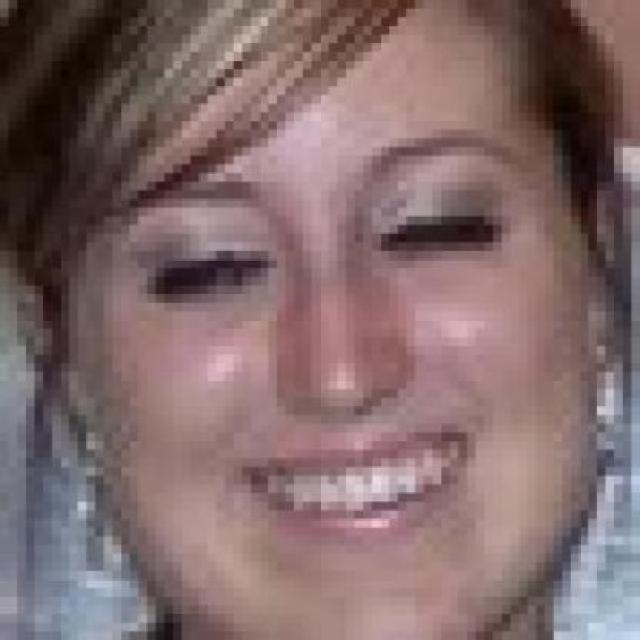drowsy: (372, 202, 497, 266), (141, 246, 274, 306)
